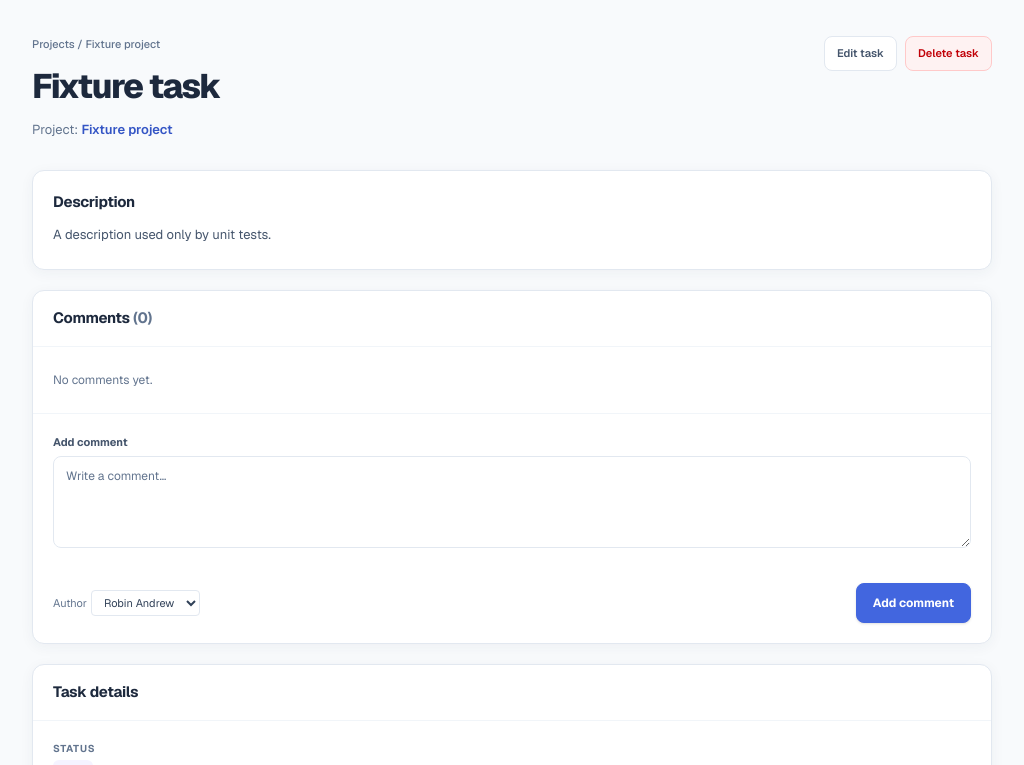
Scenario: TaskDetail › keeps what was typed when the comment is rejected
The image size is (1024, 765).
In the text box labelled "Add comment": (512, 502) [53, 456, 971, 548], type "A note"
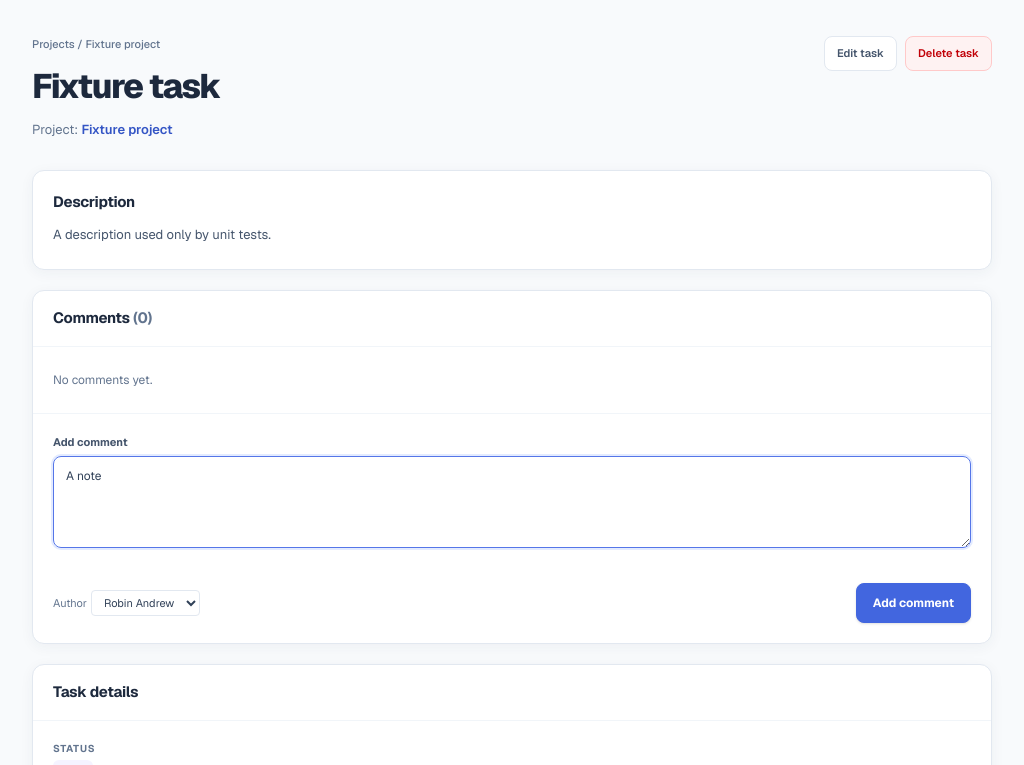
Click the button "Add comment": (913, 603) [856, 583, 971, 623]
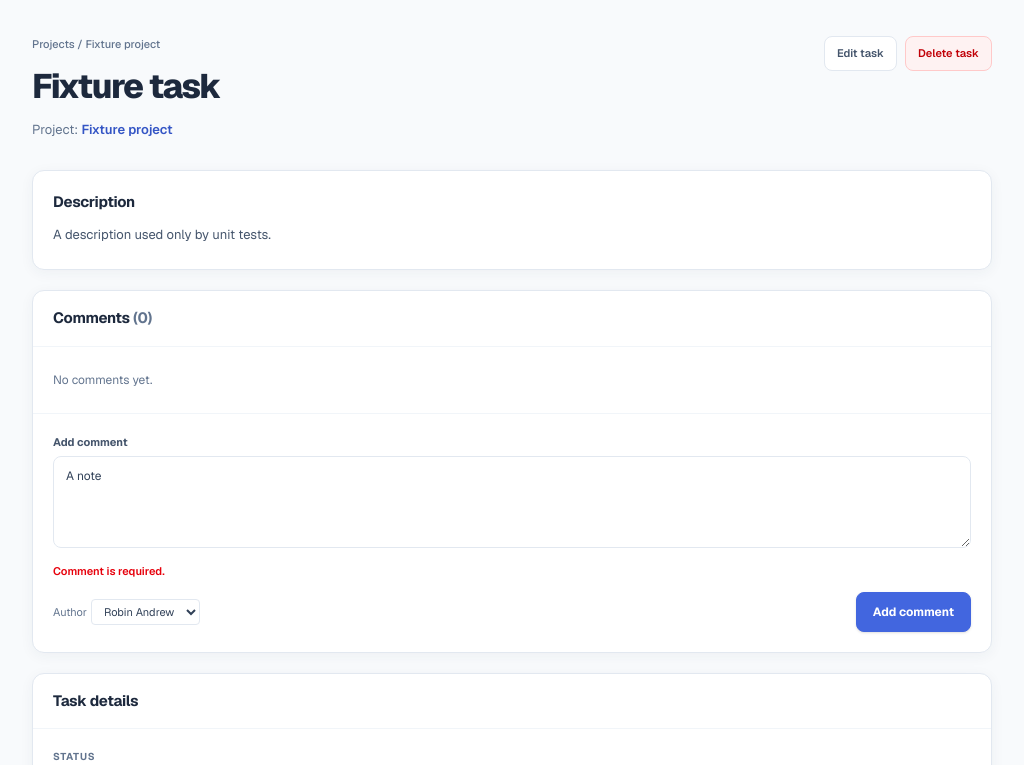
Expected: the text "Comment is required." is shown, [53, 564, 165, 578]
